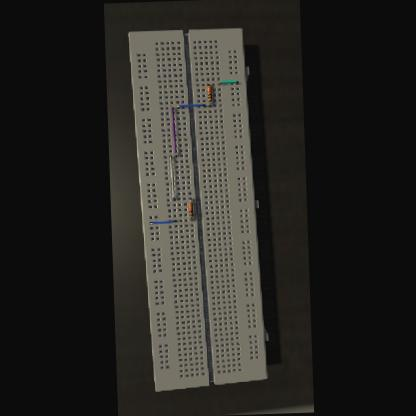breadboard: (127, 29, 268, 392)
resistor: (205, 86, 211, 102), (187, 202, 193, 217)
wire: (170, 107, 176, 157), (168, 156, 174, 200), (176, 104, 204, 109), (218, 80, 237, 86), (150, 221, 176, 224), (209, 101, 210, 107), (191, 217, 192, 220), (189, 199, 190, 202), (207, 84, 208, 86)
